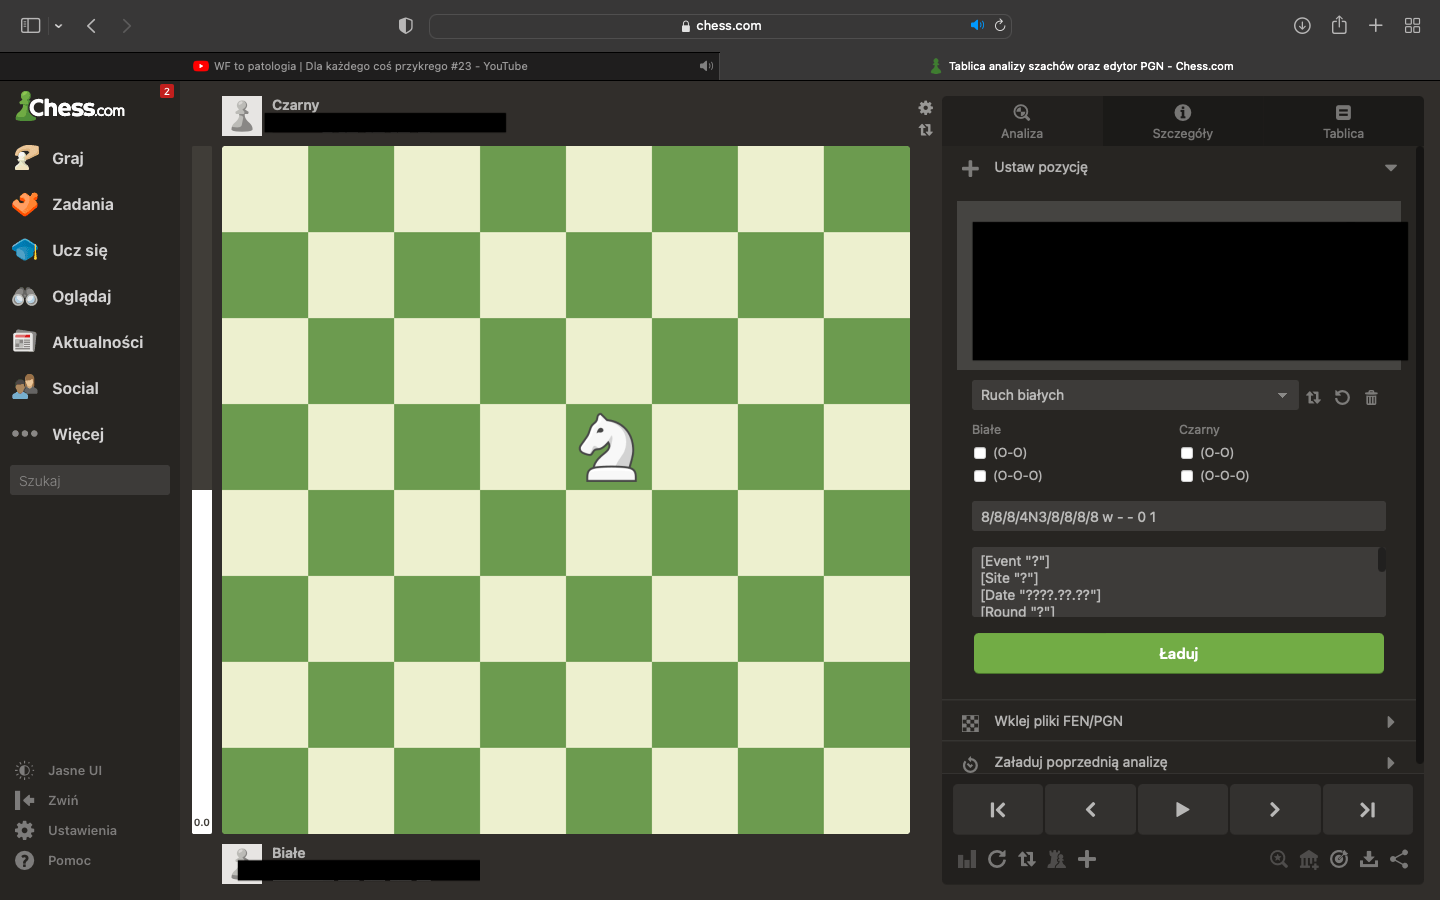white_knigth: (578, 412, 638, 483)
